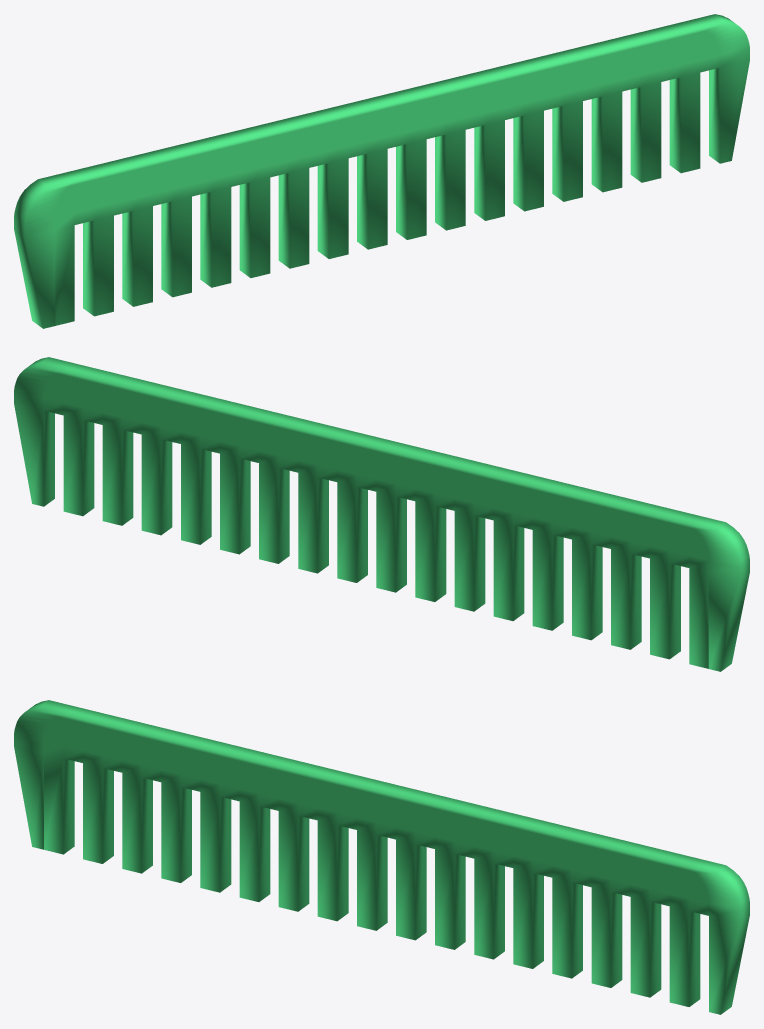
Rendered from Peine4.fbx.
3 renders of one model, top to bottom at view 1: azimuth 30°, elevation 25°; view 2: azimuth 150°, elevation 25°; view 3: azimuth 330°, elevation 25°, orthographic.
Visible parts, largest first — view 1: Cube.003; view 2: Cube.003; view 3: Cube.003.
Part boxes in pixels (x1,y1,x2,y2): Cube.003: (14,14,749,328); Cube.003: (14,357,749,671); Cube.003: (14,700,749,1014).
Bounding box in the file's own units: 962 × 178 × 25.66.
